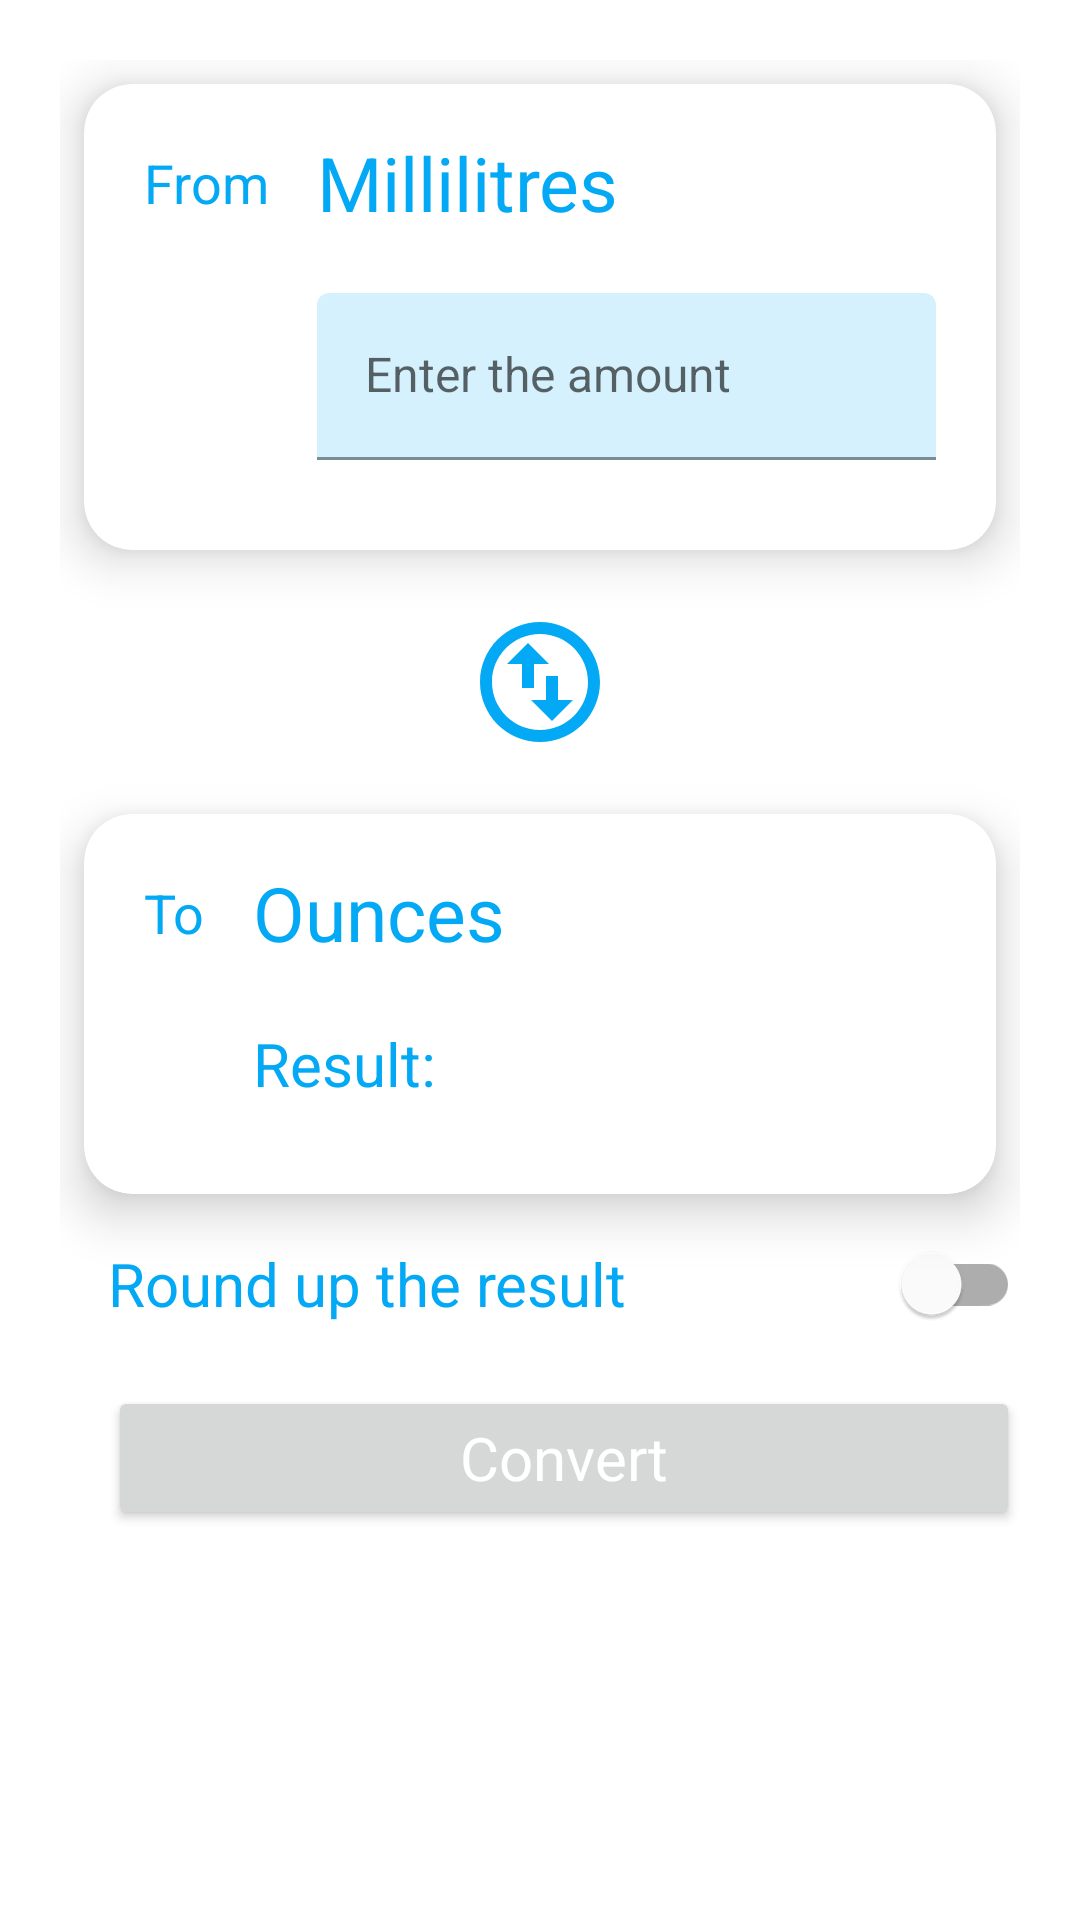

Screen size 1080 x 1920. Icon name, then its center in pixels as (x=x, y=y):
replace unit types: (x=540, y=682)
